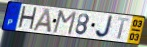8: (75, 13, 90, 36)
A: (31, 8, 52, 34)
H: (16, 5, 39, 32)
J: (95, 15, 115, 39)
M: (51, 10, 78, 36)
T: (116, 17, 131, 41)
